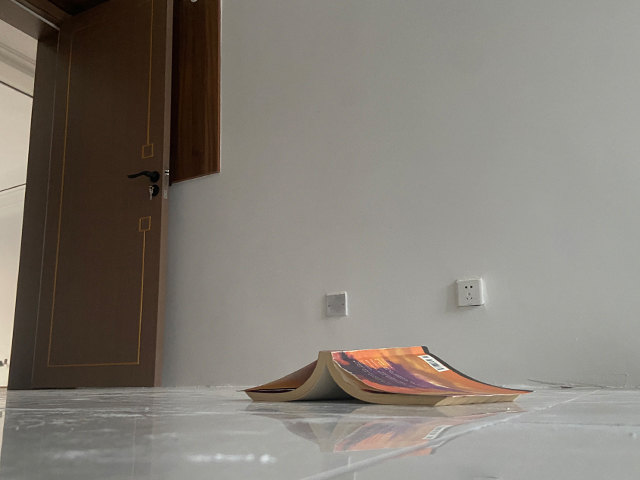book: (234, 344, 535, 407)
